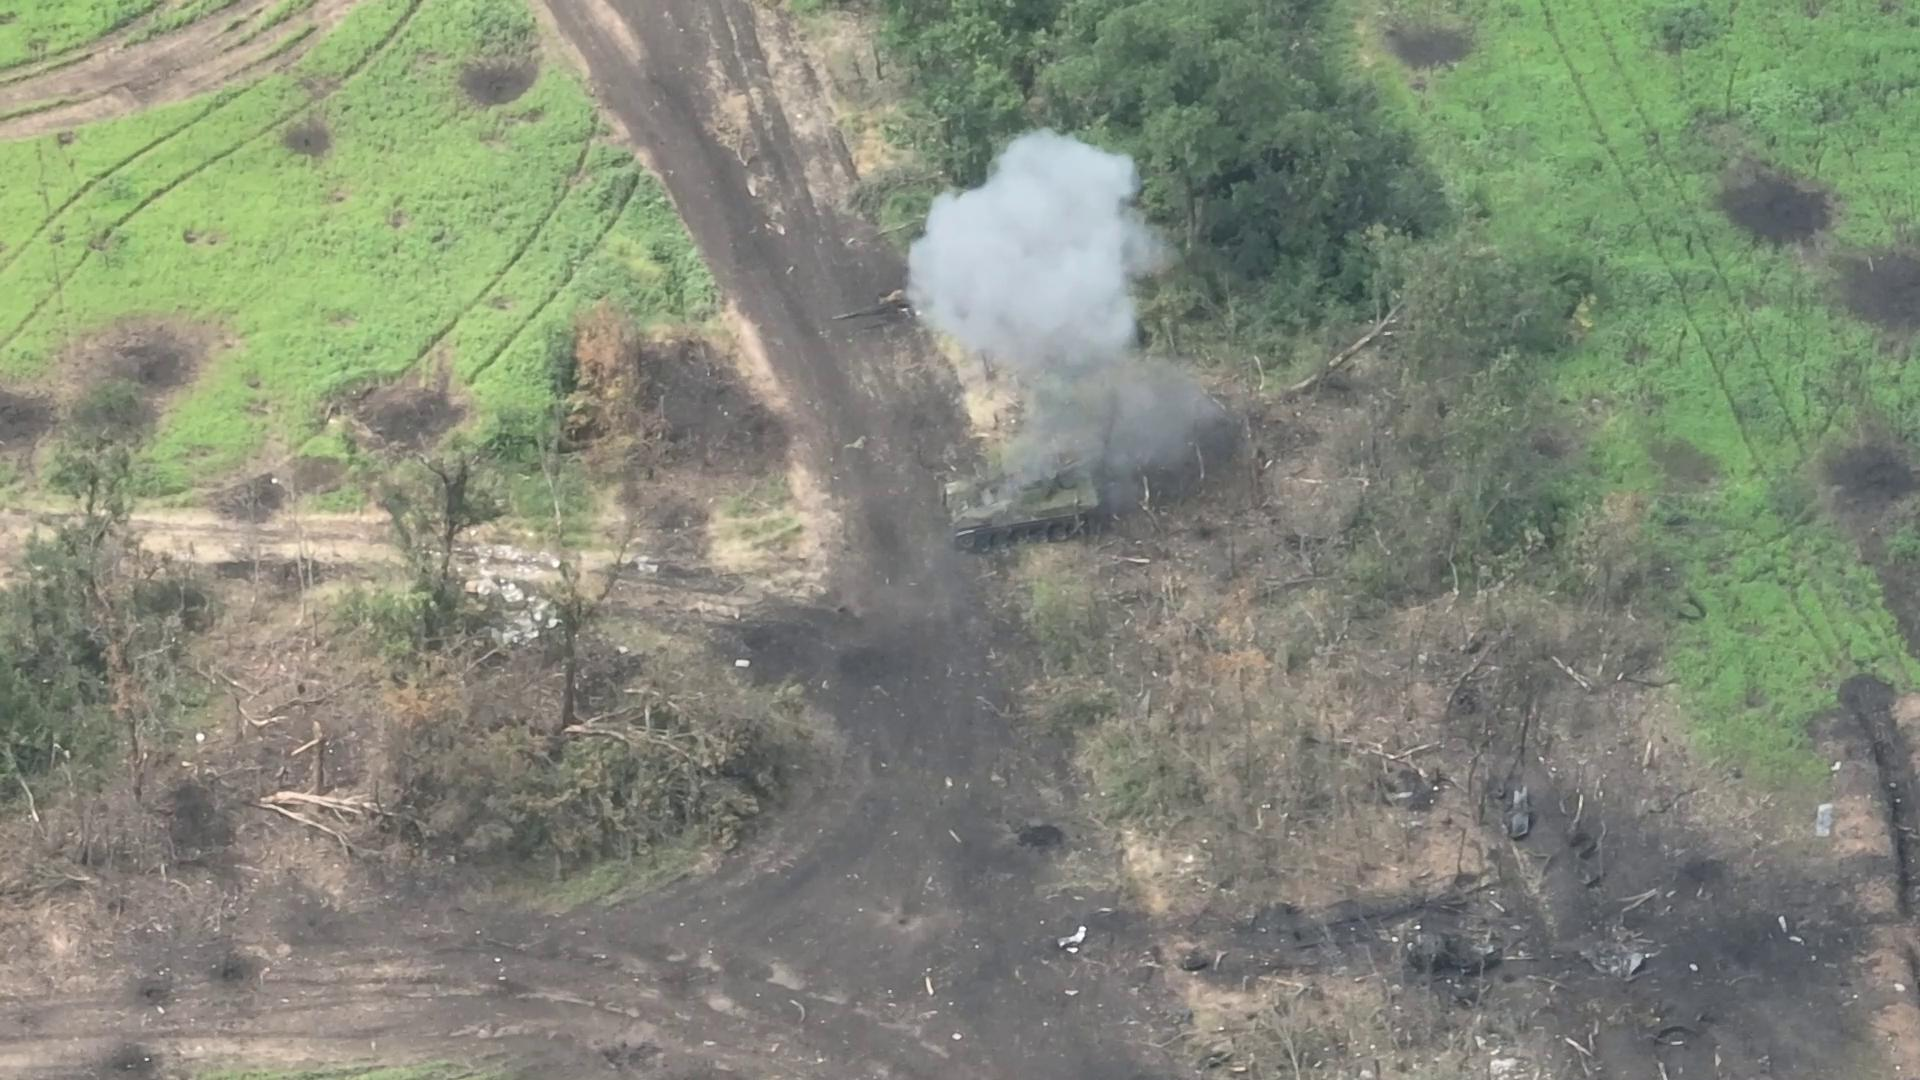tank: (942, 448, 1116, 556)
